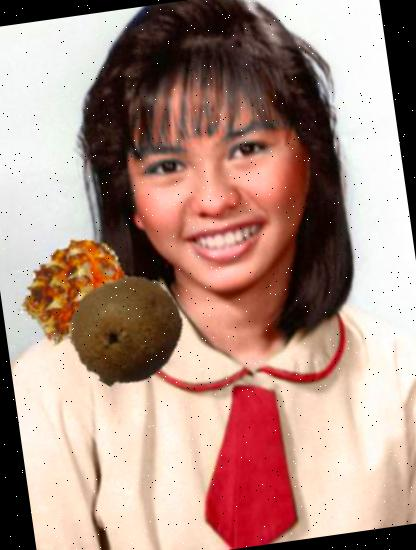Kiwi: (63, 266, 192, 396)
Pineapple: (15, 230, 144, 360)
